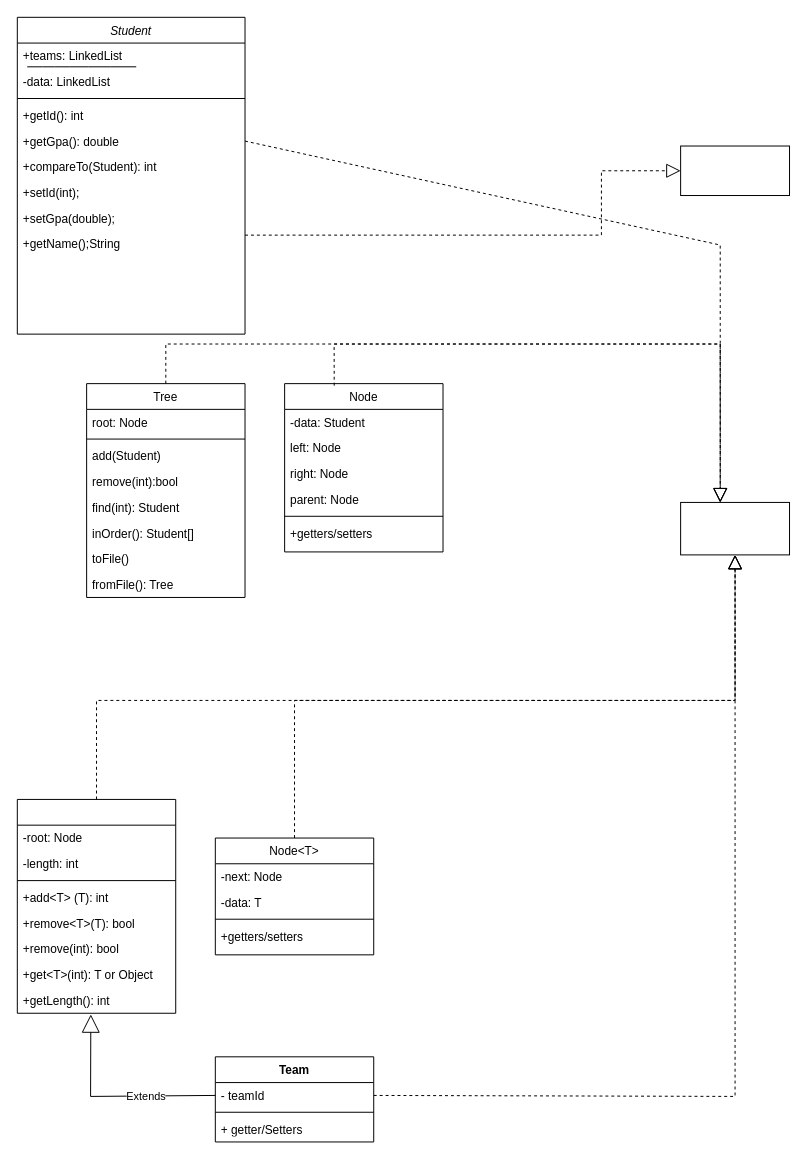
This 807x1162 diagram has some shape labels left out. The shapes that lost their labels are listed below. From the top down, each one's box as (x1, y1, x2, y2) in pixels, then its label:
(680, 145, 790, 196): «interface» Comparable
(680, 501, 790, 555): «interface» Serializable
(16, 798, 176, 1013): LinkedList
